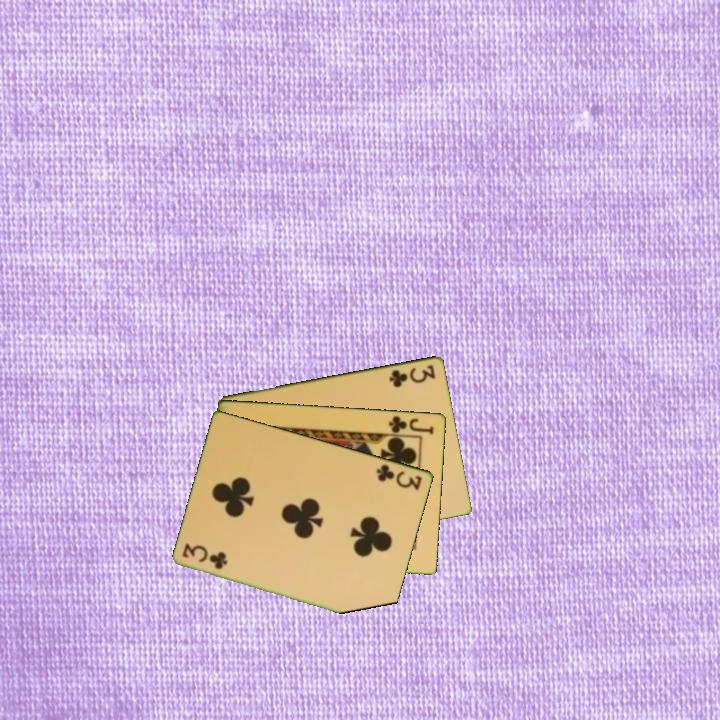3c: (373, 460, 425, 493), (179, 541, 231, 572), (386, 361, 439, 390)
Jc: (386, 412, 437, 437)
